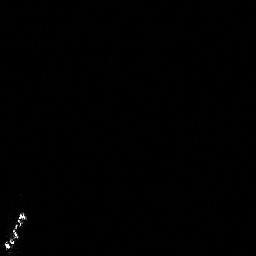ship: (1, 207, 31, 256)
